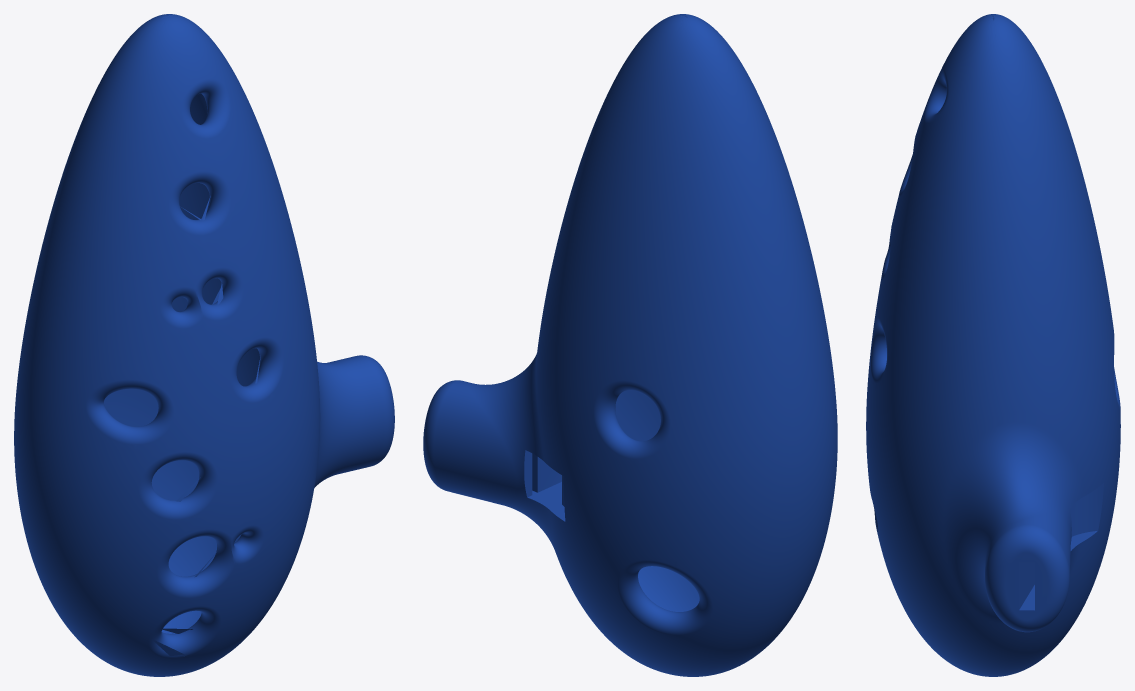
Rendered from ocarina-12-hole.glb.
The picture shows the model from 3 angles, left to right: view 1: azimuth 30°, elevation 25°; view 2: azimuth 150°, elevation 25°; view 3: azimuth 270°, elevation 25°; orthographic projection.
Visible parts, largest first — view 1: Ocarina_12_Hole; view 2: Ocarina_12_Hole; view 3: Ocarina_12_Hole.
Boxes of the visible parts, x1,y1,x2,y2 form: Ocarina_12_Hole: (14,14,394,676); Ocarina_12_Hole: (423,14,837,676); Ocarina_12_Hole: (866,14,1120,676).
Bounding box in the file's own units: 0.0801 × 0.135 × 0.048.
